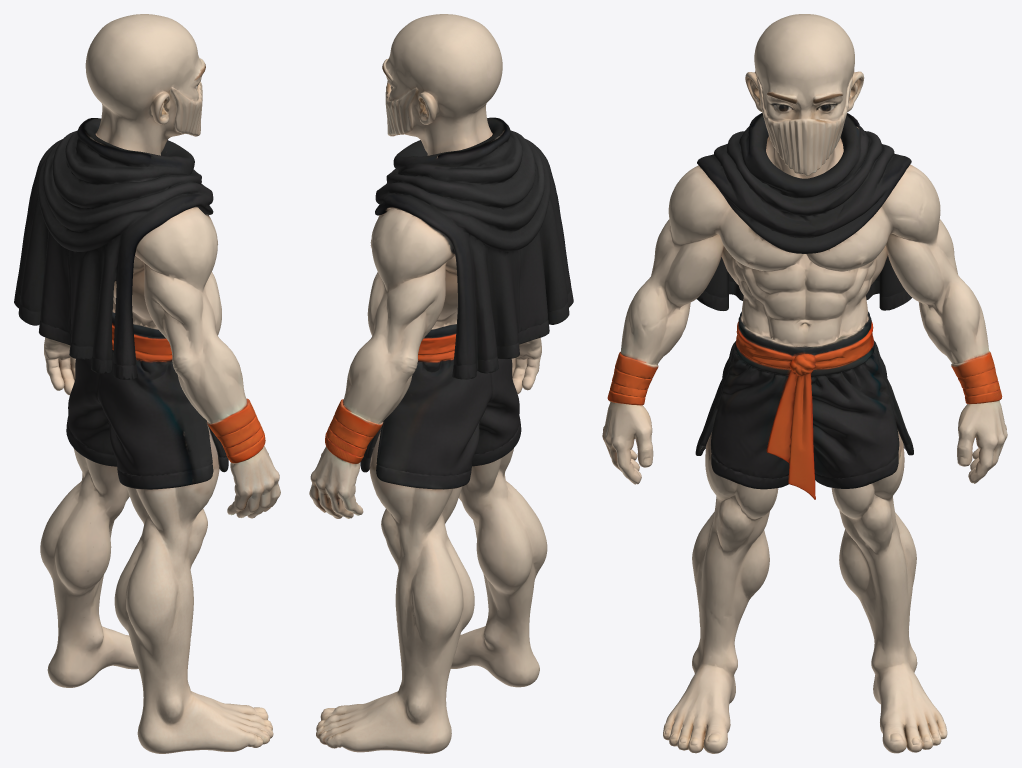
The model's file is talos-raw.glb.
3 views of the same model, side by side, from view 1: azimuth 30°, elevation 25°; view 2: azimuth 150°, elevation 25°; view 3: azimuth 270°, elevation 25° (orthographic).
Parts seen in each view (by area): view 1: tripo_node_6e8df936-872f-493b-9cae-0128b2c23baa; view 2: tripo_node_6e8df936-872f-493b-9cae-0128b2c23baa; view 3: tripo_node_6e8df936-872f-493b-9cae-0128b2c23baa.
Part boxes in pixels (box(x1,y1,x2,y2)): tripo_node_6e8df936-872f-493b-9cae-0128b2c23baa: box(14, 14, 280, 753); tripo_node_6e8df936-872f-493b-9cae-0128b2c23baa: box(309, 14, 573, 753); tripo_node_6e8df936-872f-493b-9cae-0128b2c23baa: box(602, 14, 1007, 753).
Bounding box in the file's own units: 0.2468 × 0.9794 × 0.5156.
Materials: 1 (1 with a texture image).
